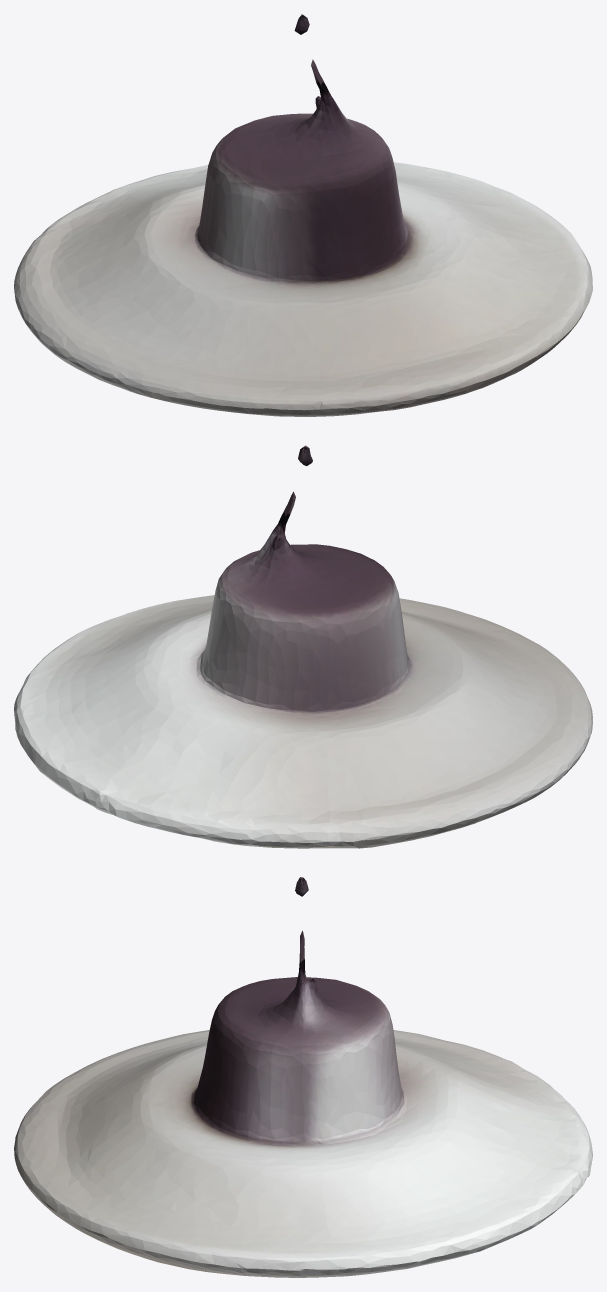
The picture shows the model from 3 angles, top to bottom: view 1: azimuth 30°, elevation 25°; view 2: azimuth 150°, elevation 25°; view 3: azimuth 270°, elevation 25°; orthographic projection.
Visible parts, largest first — view 1: geometry_0; view 2: geometry_0; view 3: geometry_0.
Part boxes in pixels (x1=…): geometry_0: x1=14, y1=14, x2=592, y2=416; geometry_0: x1=14, y1=445, x2=592, y2=848; geometry_0: x1=14, y1=877, x2=592, y2=1277.
Bounding box in the file's own units: 0.6989 × 0.3858 × 0.6976.
1 material, 1 textured.
